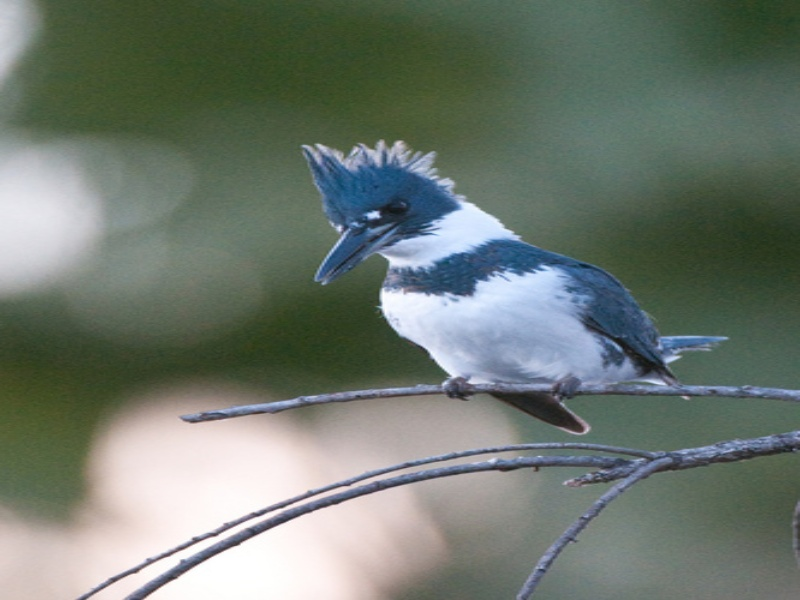kingfisher: (293, 133, 737, 441)
